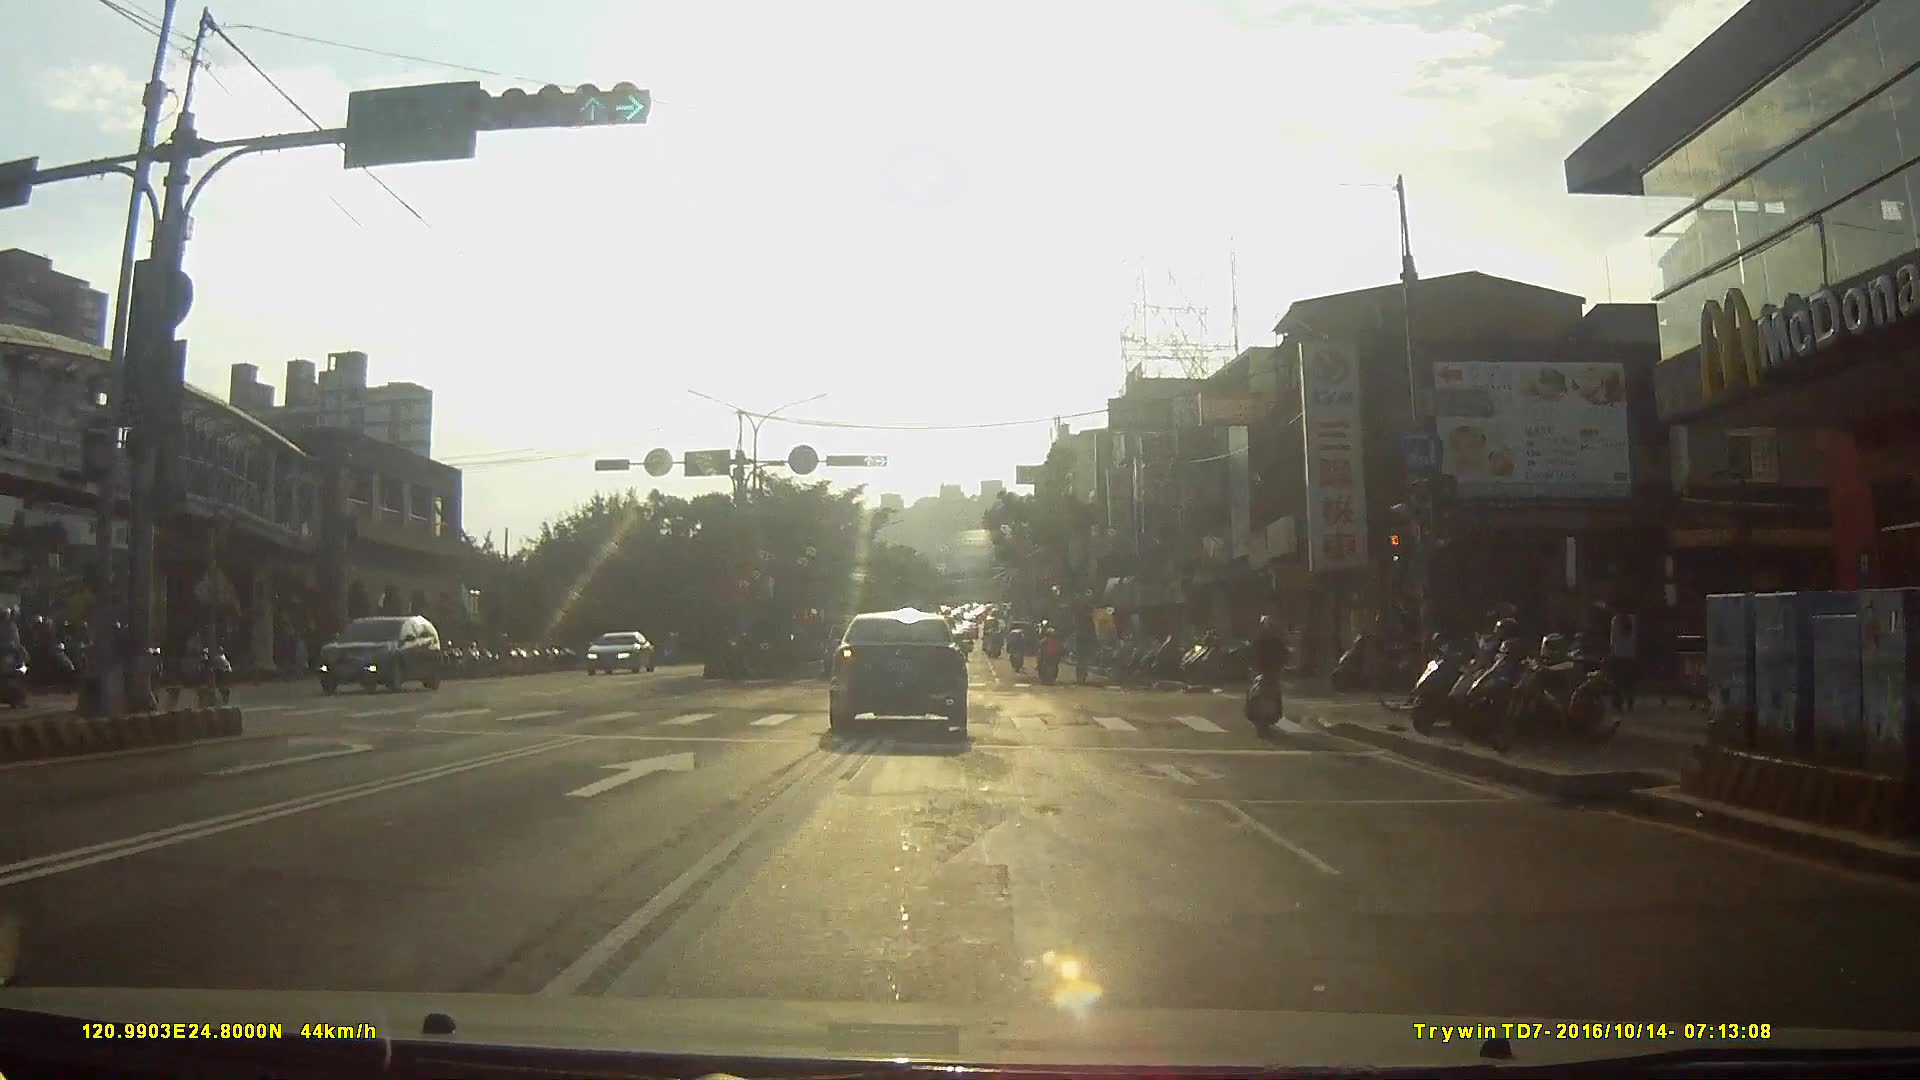pedestrian: (1607, 595, 1645, 702)
rider: (1244, 616, 1299, 737), (33, 619, 108, 690), (1036, 630, 1065, 692), (1006, 635, 1028, 680)
vehicle: (828, 608, 982, 747), (314, 616, 450, 695), (585, 632, 657, 682)
